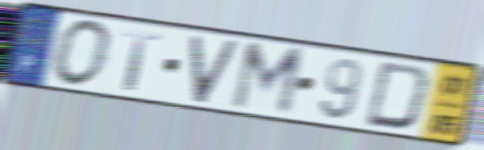9: (318, 56, 364, 122)
D: (361, 59, 433, 133)
M: (227, 40, 308, 120)
O: (50, 17, 116, 89)
T: (120, 27, 163, 93)
V: (187, 33, 243, 107)
